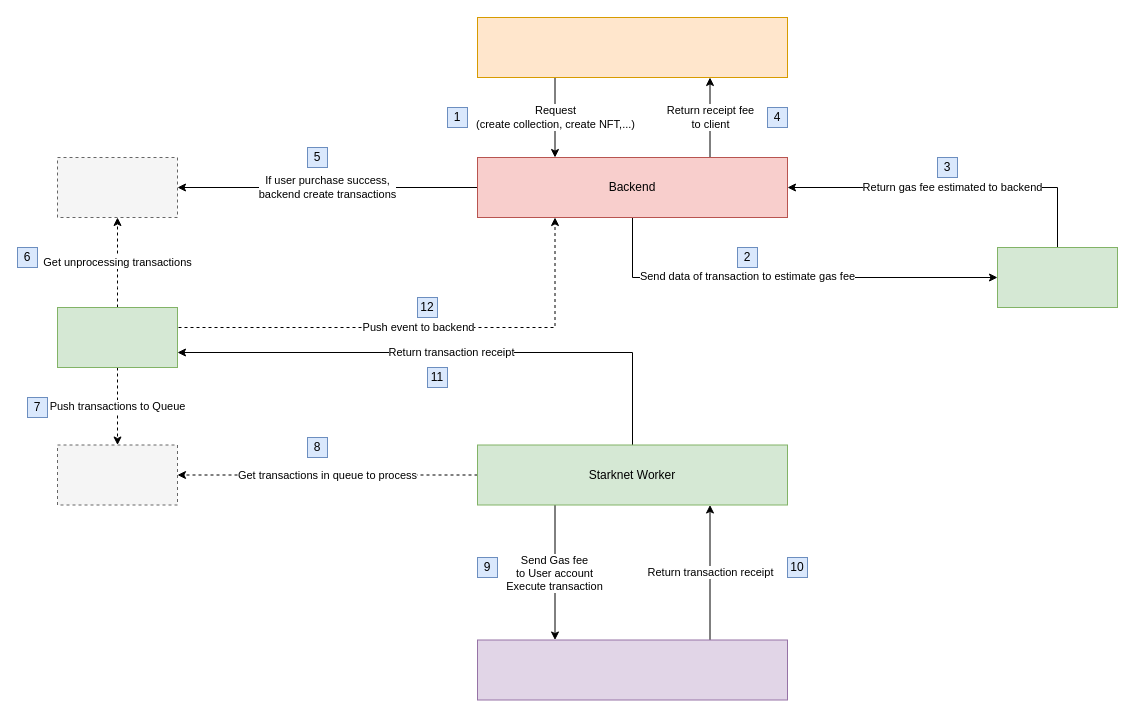
Image size: 1135x718. Some labels were removed from this diagram. Here are the shapes that lost their labels. From the top down, the centre of each, then its label:
At point 632,47: "Client".
At point 117,187: "Transactions".
At point 1057,277: "Cost estimate".
At point 117,337: "Core service".
At point 117,474: "Transaction Queue".
At point 632,669: "Blockchain".
